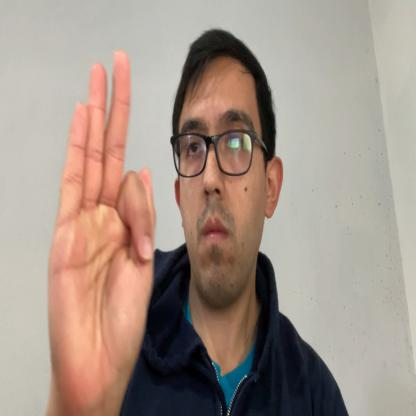F: (47, 48, 156, 392)
